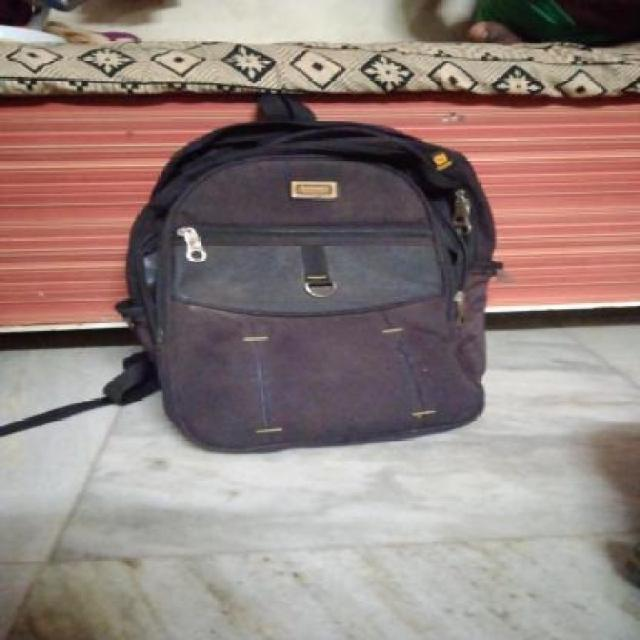backpack: (116, 89, 507, 457)
